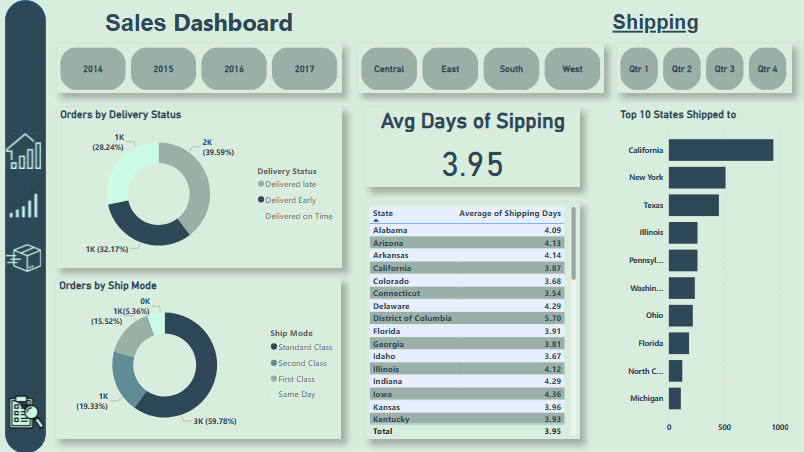

This screenshot's page, from the dashboard's own definition file:
{"tool":"powerbi","page":{"name":"Shipping","canvas":[1280,720],"ordinal":2},"visuals":[{"type":"donutChart","fields":{"Category":["Query - Orders.Ship Mode"],"Y":["Key Measure.Orders"]},"box":[90,443,453,254],"z":0},{"type":"donutChart","fields":{"Category":["Query - Orders.Delivery Status"],"Y":["Key Measure.Orders"]},"box":[91.4,171.4,452.9,254.3],"z":1000},{"type":"card","title":"Avg Days of Sipping","fields":{"Values":["Avg(Query - Orders.Average Days of Shipping)"]},"box":[581.9,171.9,339.4,126.4],"z":2000},{"type":"tableEx","fields":{"Values":["Query - Orders.State","Avg(Query - Orders.Average Days of Shipping)"]},"box":[581.9,321.8,339.4,374.7],"z":3000},{"type":"clusteredBarChart","title":"Top 10 States Shipped to","fields":{"Category":["Query - Orders.State"],"Y":["CountNonNull(Query - Orders.Order ID)"]},"box":[981.4,171.4,277.1,525.7],"z":4000},{"type":"shape","box":[10,0,65,720],"z":5000},{"type":"actionButton","box":[6.7,278.3,65,88.3],"z":6000},{"type":"actionButton","box":[6.7,195,65,88.3],"z":7000},{"type":"actionButton","box":[11.7,610,65,88.3],"z":8000},{"type":"actionButton","box":[6.7,365,65,88.3],"z":9000},{"type":"textbox","box":[108.7,4.4,415.8,66.1],"z":10000},{"type":"textbox","box":[922,4.4,240,57.1],"z":11000},{"type":"advancedSlicerVisual","fields":{"Values":["Calender.Date.Variation.Date Hierarchy.Year"]},"box":[91.7,70,451.7,78.3],"z":12000},{"type":"advancedSlicerVisual","fields":{"Values":["Query - Orders.Region"]},"box":[570,70,390,78.3],"z":13000},{"type":"advancedSlicerVisual","fields":{"Values":["Calender.Date.Variation.Date Hierarchy.Quarter"]},"box":[981.7,70,276.7,78.3],"z":14000}]}

Visuals, with their boxes on the page's 1280x720 design canvas (x1, y1, x2, y2). These are canvas units, not pixel positions in the 804x452 screenshot, which may show the page scaled, cropped or inside an application window:
donutChart - Query - Orders.Ship Mode x Key Measure.Orders: l=90, t=443, r=543, b=697
donutChart - Query - Orders.Delivery Status x Key Measure.Orders: l=91, t=171, r=544, b=426
"Avg Days of Sipping" card: l=582, t=172, r=921, b=298
tableEx - Query - Orders.State x Avg(Query - Orders.Average Days of Shipping): l=582, t=322, r=921, b=696
"Top 10 States Shipped to" clusteredBarChart: l=981, t=171, r=1258, b=697
shape: l=10, t=0, r=75, b=720
actionButton: l=7, t=278, r=72, b=367
actionButton: l=7, t=195, r=72, b=283
actionButton: l=12, t=610, r=77, b=698
actionButton: l=7, t=365, r=72, b=453
textbox: l=109, t=4, r=524, b=70
textbox: l=922, t=4, r=1162, b=62
advancedSlicerVisual - Calender.Date.Variation.Date Hierarchy.Year: l=92, t=70, r=543, b=148
advancedSlicerVisual - Query - Orders.Region: l=570, t=70, r=960, b=148
advancedSlicerVisual - Calender.Date.Variation.Date Hierarchy.Quarter: l=982, t=70, r=1258, b=148
